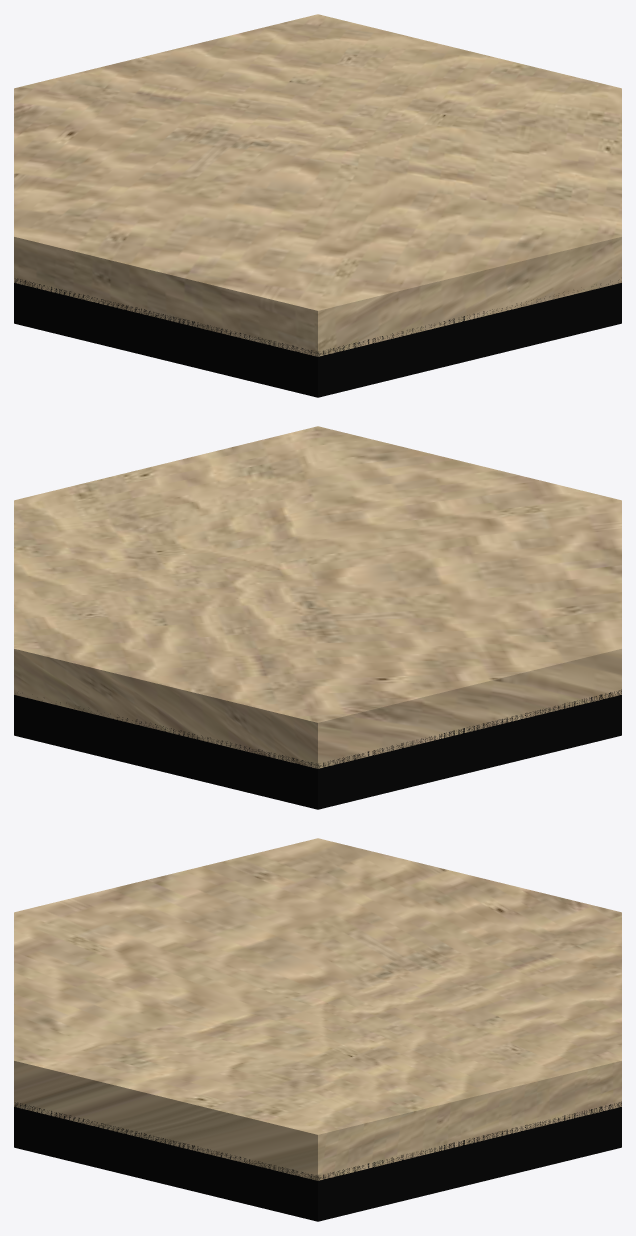
3 renders of one model, top to bottom at view 1: azimuth 30°, elevation 25°; view 2: azimuth 150°, elevation 25°; view 3: azimuth 270°, elevation 25°, orthographic.
Parts seen in each view (by area): view 1: base_1, base; view 2: base_1, base; view 3: base_1, base.
Boxes of the visible parts, x1=… form: base_1: x1=14, y1=14, x2=621, y2=356; base: x1=14, y1=278, x2=621, y2=397; base_1: x1=14, y1=426, x2=621, y2=768; base: x1=14, y1=689, x2=621, y2=809; base_1: x1=14, y1=838, x2=621, y2=1180; base: x1=14, y1=1101, x2=621, y2=1221.
Bounding box in the file's own units: 1000 × 137 × 866.
Materials: 2 (1 with a texture image).
